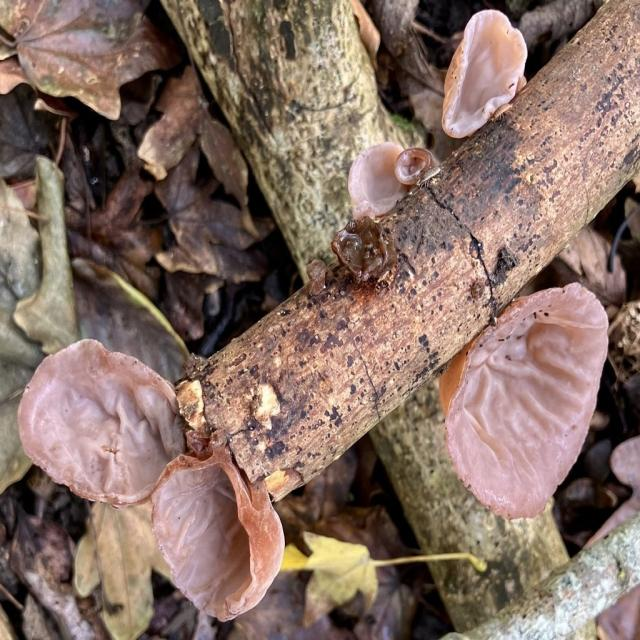Fase Muda: (15, 339, 288, 596), (452, 278, 617, 525), (439, 3, 533, 137), (339, 140, 442, 228)
